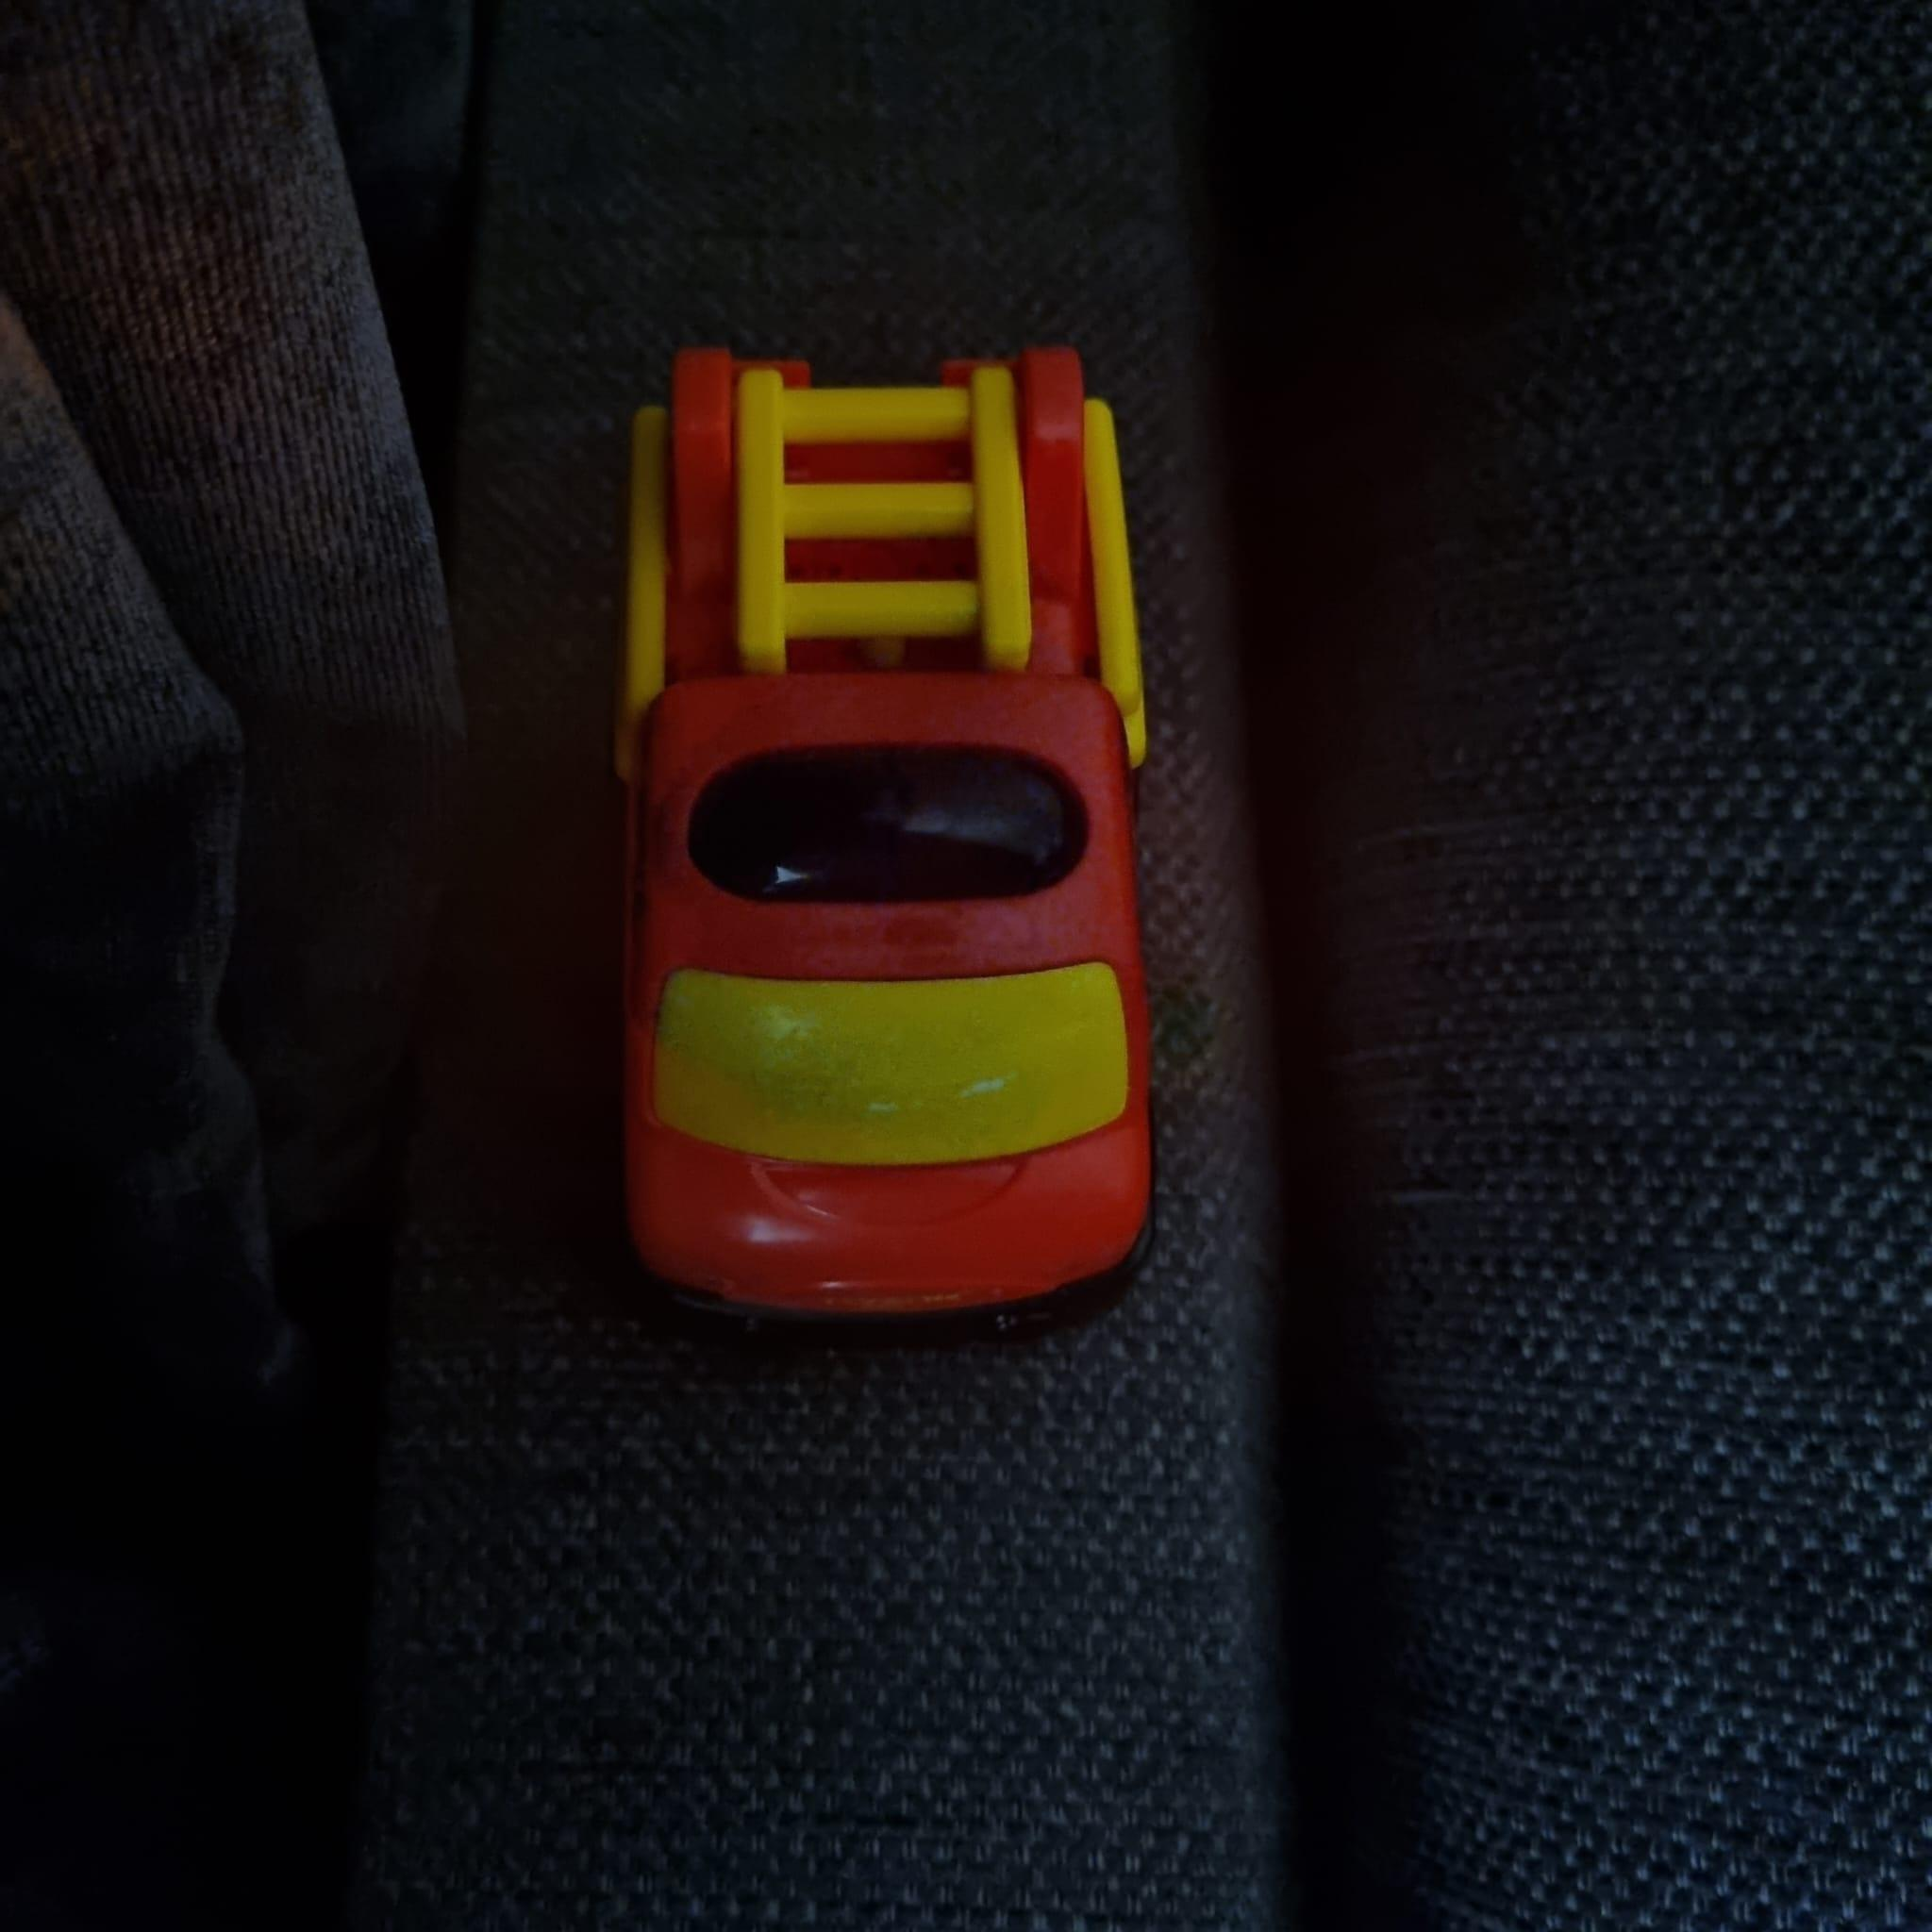firetruck_off: (595, 350, 1169, 1349)
